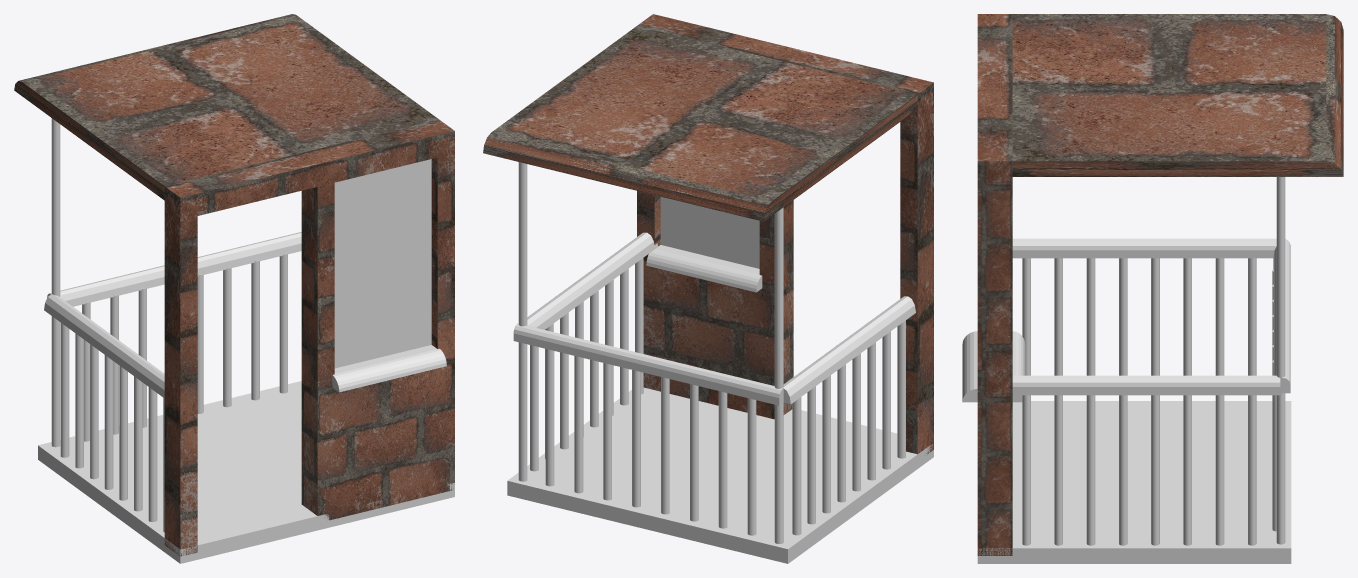
The model's file is балкон.fbx.
The picture shows the model from 3 angles, left to right: view 1: azimuth 30°, elevation 25°; view 2: azimuth 150°, elevation 25°; view 3: azimuth 270°, elevation 25°; orthographic projection. The views are drawn at different scales.
Parts seen in each view (by area): view 1: Cube.007, Cube.008, Cube.013, Cube.012, Cylinder, Cylinder.001, Cube.011, Cylinder.004, Cube.009, Cube.014; view 2: Cube.008, Cube.007, Cube.013, Cylinder.001, Cylinder, Cylinder.003, Cube.011, Cube.012, Cube.009, Cylinder.004, Cube.010, Cylinder.002 (+1 smaller); view 3: Cube.008, Cube.013, Cube.007, Cylinder.003, Cylinder, Cube.010, Cube.009, Cylinder.002, Cube.014, Cube.011, Cylinder.001.
Boxes of the visible parts, <box> form: Cube.007: <box>164,119,454,556</box>; Cube.008: <box>14,14,438,200</box>; Cube.013: <box>38,381,454,563</box>; Cube.012: <box>334,159,431,368</box>; Cylinder: <box>60,323,164,532</box>; Cylinder.001: <box>82,253,287,441</box>; Cube.011: <box>47,232,301,306</box>; Cylinder.004: <box>51,118,60,447</box>; Cube.009: <box>44,294,164,398</box>; Cube.014: <box>332,345,446,392</box>; Cube.008: <box>483,26,917,221</box>; Cube.007: <box>637,14,933,454</box>; Cube.013: <box>507,387,933,563</box>; Cylinder.001: <box>545,349,756,535</box>; Cylinder: <box>792,320,905,535</box>; Cylinder.003: <box>530,258,643,471</box>; Cube.011: <box>513,323,783,405</box>; Cube.012: <box>660,196,759,268</box>; Cube.009: <box>783,296,915,404</box>; Cylinder.004: <box>774,207,783,543</box>; Cube.010: <box>527,232,657,329</box>; Cylinder.002: <box>518,162,527,481</box>; Cube.008: <box>1012,14,1343,176</box>; Cube.013: <box>977,401,1291,563</box>; Cube.007: <box>977,14,1012,555</box>; Cylinder.003: <box>1022,395,1256,545</box>; Cylinder: <box>1022,258,1256,375</box>; Cube.010: <box>1012,375,1280,395</box>; Cube.009: <box>1012,238,1276,258</box>; Cylinder.002: <box>1276,177,1285,544</box>; Cube.014: <box>962,331,1025,402</box>; Cube.011: <box>1273,239,1290,393</box>; Cylinder.001: <box>1272,269,1276,531</box>.
Size of the model in its own units: 200 by 255 by 219.
